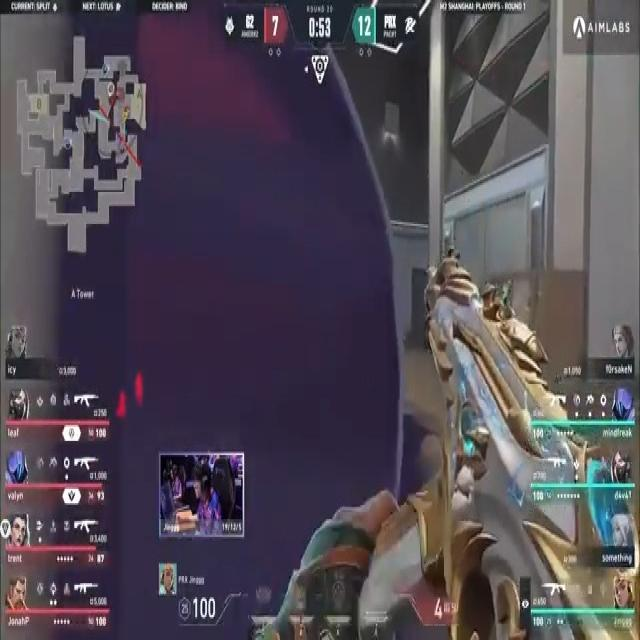smoke: (138, 0, 408, 640)
